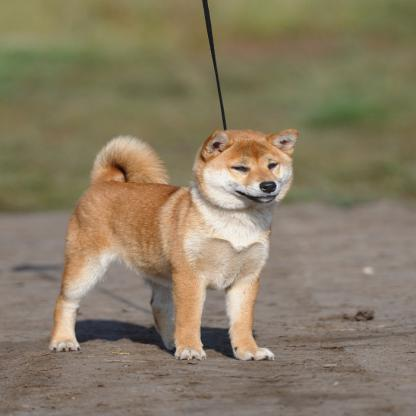Siba-ny: (43, 124, 304, 368)
